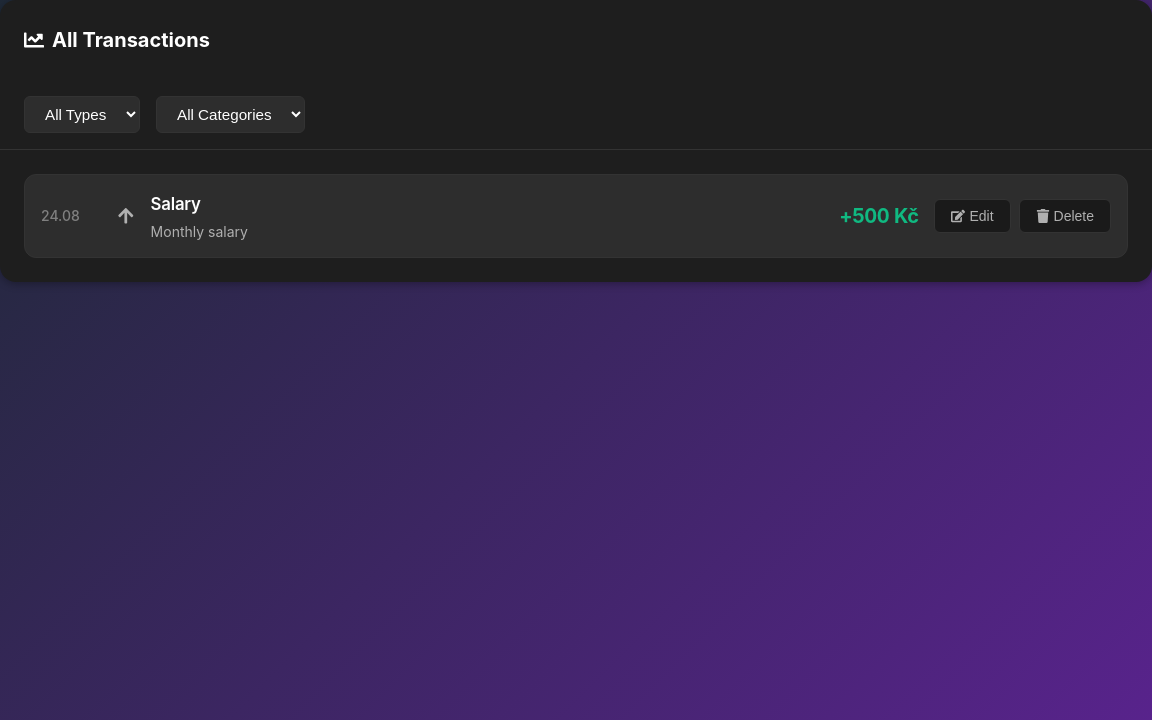
Test: TransactionList › shows filter message and no add button when filters match nothing
The image size is (1152, 720).
Select "Expense" in the 1st dropdown showing "All Types": (82, 114) top-left (24, 96), bottom-right (140, 133)
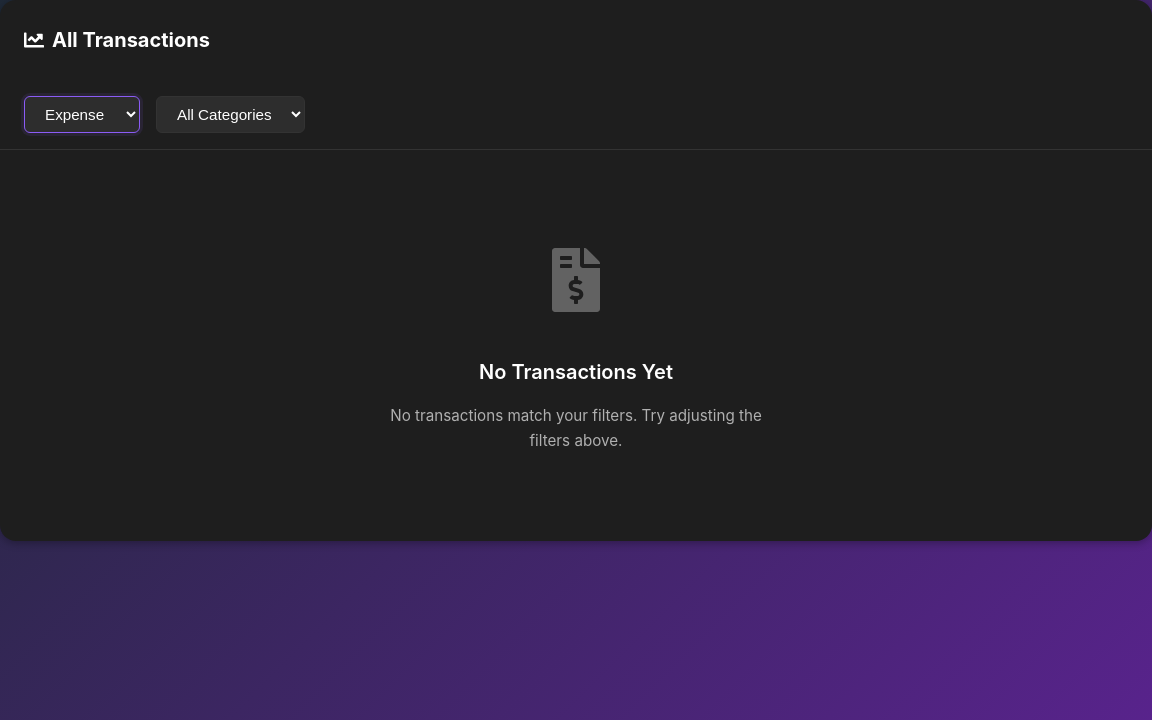
Result: the text "No transactions match" is shown at top-left (390, 406), bottom-right (762, 450)
